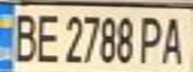2: (60, 10, 84, 64)
7: (78, 11, 100, 64)
8: (115, 11, 139, 64), (100, 11, 121, 64)
A: (157, 12, 190, 65)
B: (6, 9, 42, 64)
E: (33, 9, 60, 64)
P: (136, 12, 169, 65)
